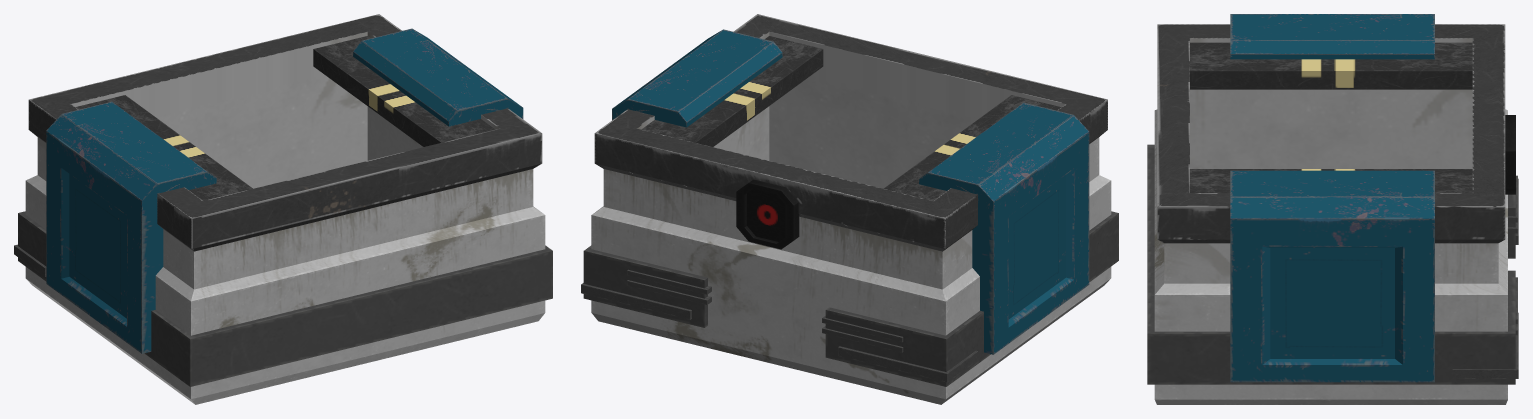
File: Box_Ani_Opening.FBX
3 views of the same model, side by side, from view 1: azimuth 30°, elevation 25°; view 2: azimuth 150°, elevation 25°; view 3: azimuth 270°, elevation 25° (orthographic). The views are drawn at different scales.
Visible parts, largest first — view 1: Box002; view 2: Box002; view 3: Box002.
Boxes of the visible parts, left/top/right/bottom form: Box002: left=14, top=14, right=552, bottom=404; Box002: left=581, top=14, right=1118, bottom=404; Box002: left=1147, top=14, right=1518, bottom=404.
Bounding box in the file's own units: 62.24 × 30.66 × 49.14.
